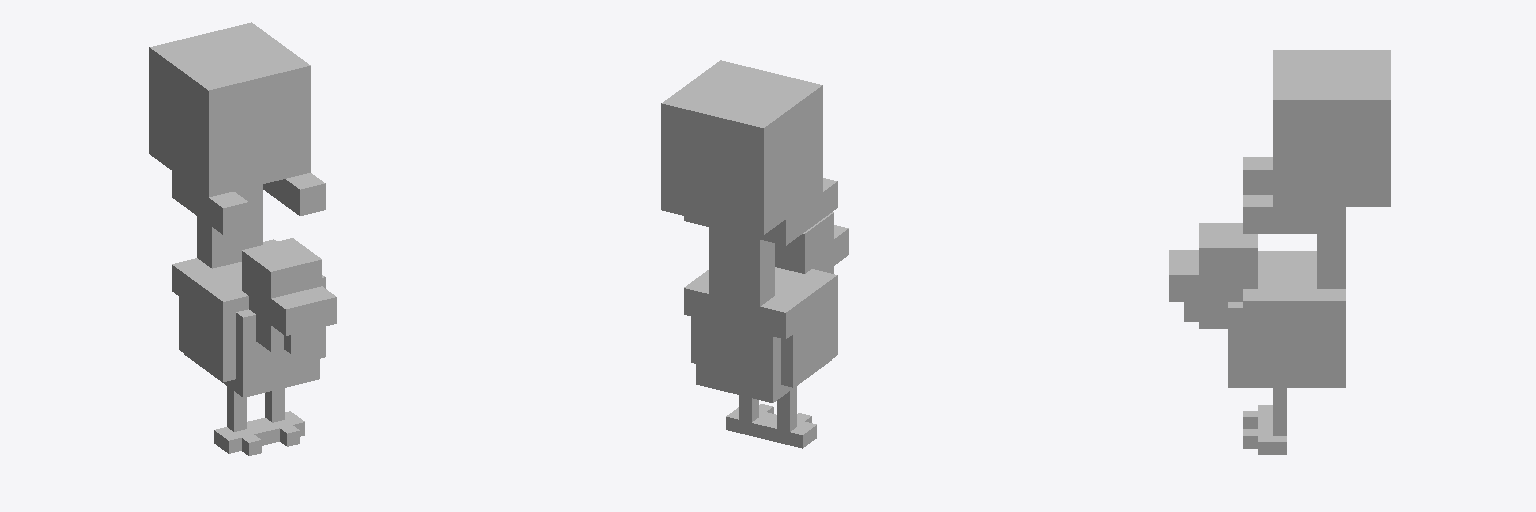
The model's file is chicen jockey.obj.
3 views of the same model, side by side, from view 1: azimuth 30°, elevation 25°; view 2: azimuth 150°, elevation 25°; view 3: azimuth 270°, elevation 25° (orthographic).
Parts seen in each view (by area): view 1: object 1; view 2: object 1; view 3: object 1.
Part boxes in pixels (left/top/right/bottom): object 1: left=149, top=22, right=336, bottom=455; object 1: left=661, top=60, right=848, bottom=448; object 1: left=1169, top=50, right=1390, bottom=454.
Bounding box in the file's own units: 0.8 × 2.7 × 1.5.